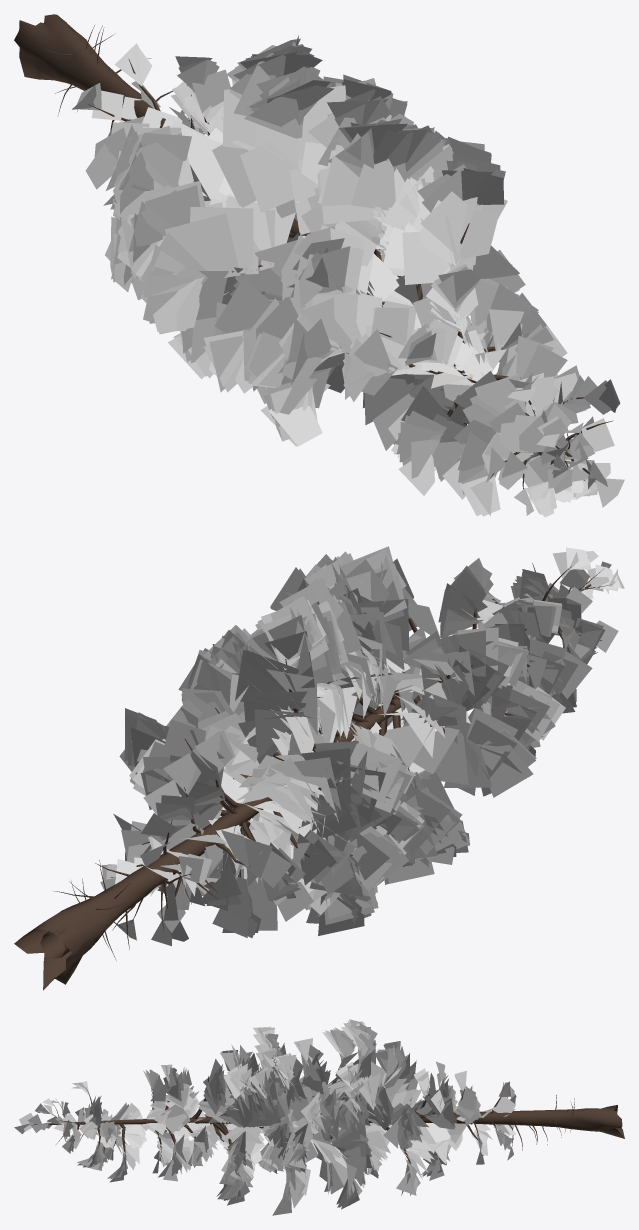
The model's file is PineTree_A.fbx.
3 renders of one model, top to bottom at view 1: azimuth 30°, elevation 25°; view 2: azimuth 150°, elevation 25°; view 3: azimuth 270°, elevation 25°, orthographic. The views are drawn at different scales.
Visible parts, largest first — view 1: Fir Tree; view 2: Fir Tree; view 3: Fir Tree.
Boxes of the visible parts, x1,y1,x2,y2 form: Fir Tree: (14,14,624,517); Fir Tree: (14,546,624,990); Fir Tree: (14,1019,624,1215).
Size of the model in its own units: 5.43 by 5.77 by 17.68.
